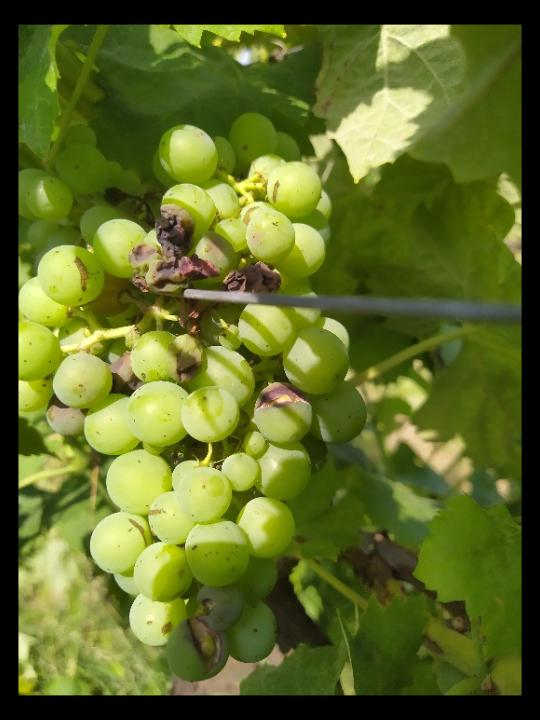grape: (25, 112, 371, 686)
